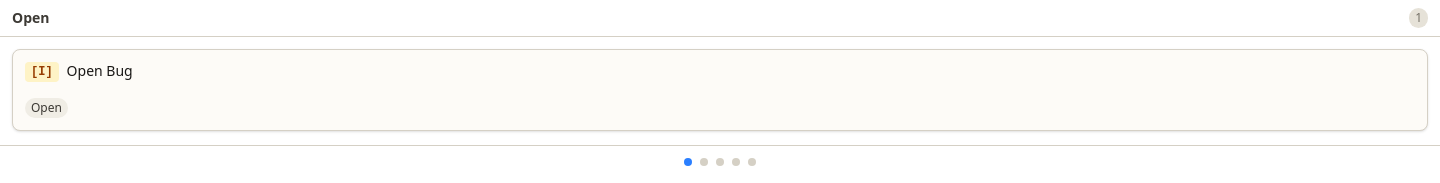
Test: MobileKanbanBoard › swipe navigation › should navigate to previous column on right swipe
The width and height of the screenshot is (1440, 183).
Click the button named "To Do 칼럼으로 이동" at {"x": 704, "y": 162}, box [700,158,708,166]
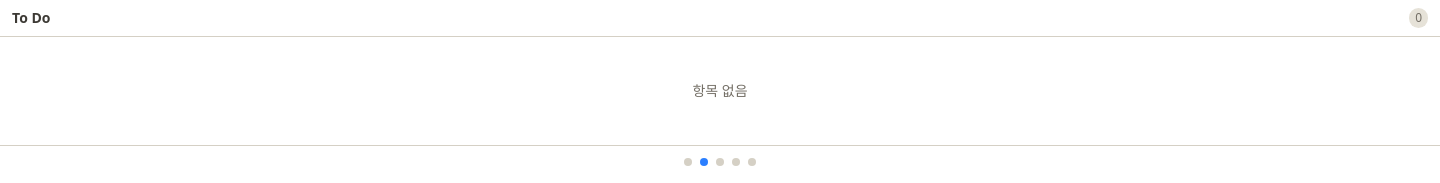
Check: the text "To Do" is shown, box [12,8,50,28]
Press the mouse on the text "To Do" at {"x": 720, "y": 72}, box [0,0,1439,145]
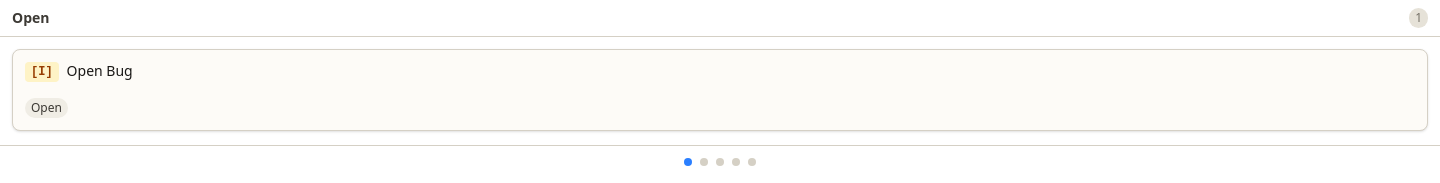
Check: the text "Open Bug" is shown, box [67,61,133,80]
